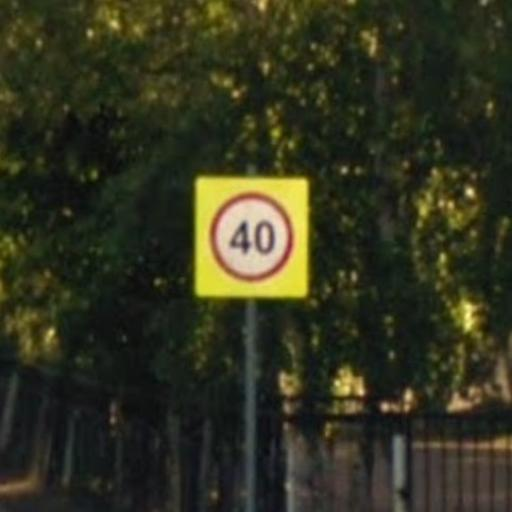traffic_sign: (211, 190, 297, 283)
